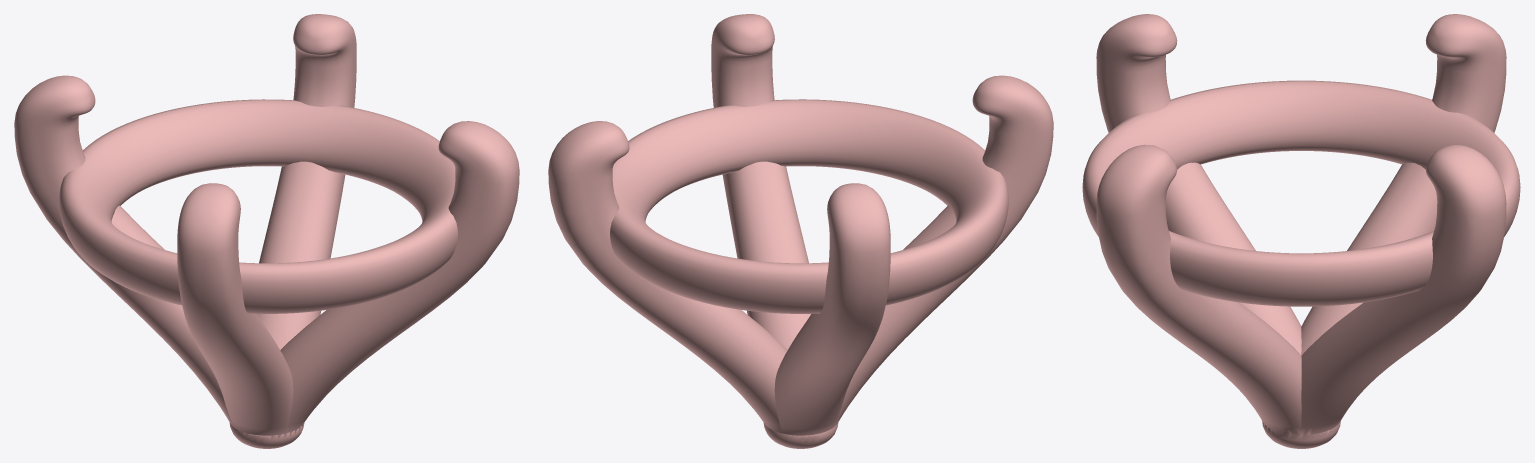
The model's file is 4 PRONG.glb.
The picture shows the model from 3 angles, left to right: view 1: azimuth 30°, elevation 25°; view 2: azimuth 150°, elevation 25°; view 3: azimuth 270°, elevation 25°; orthographic projection. The views are drawn at different scales.
Parts seen in each view (by area): view 1: 4 prong; view 2: 4 prong; view 3: 4 prong.
Part boxes in pixels (left/top/right/bottom): 4 prong: left=14, top=14, right=519, bottom=448; 4 prong: left=548, top=14, right=1053, bottom=448; 4 prong: left=1082, top=14, right=1520, bottom=448.
Size of the model in its own units: 4.96 by 4.48 by 4.96.
